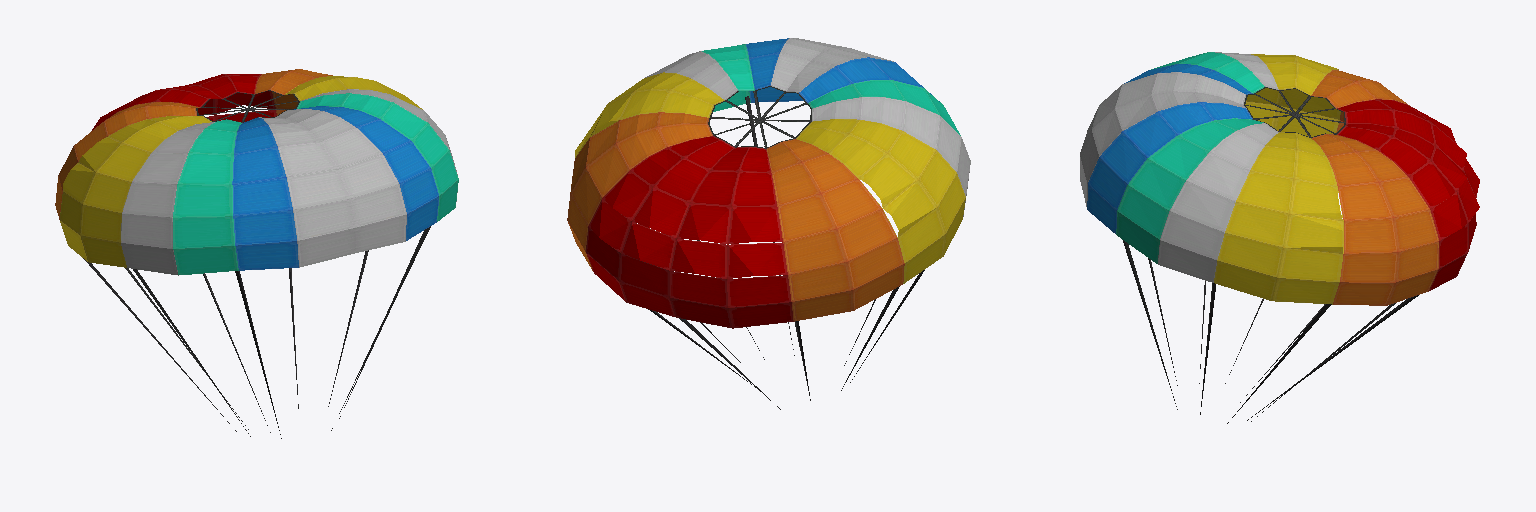
The picture shows the model from 3 angles: view 1: azimuth 30°, elevation 25°; view 2: azimuth 150°, elevation 25°; view 3: azimuth 270°, elevation 25°; orthographic projection.
Parts seen in each view (by area): view 1: Wing_Prc__m_Wing; view 2: Wing_Prc__m_Wing; view 3: Wing_Prc__m_Wing.
Part boxes in pixels (x1,y1,x2,y2): Wing_Prc__m_Wing: (55, 69, 458, 438); Wing_Prc__m_Wing: (567, 38, 970, 409); Wing_Prc__m_Wing: (1080, 52, 1479, 423).
Bounding box in the file's own units: 18.57 × 16.81 × 18.21.
1 materials, 1 textured.